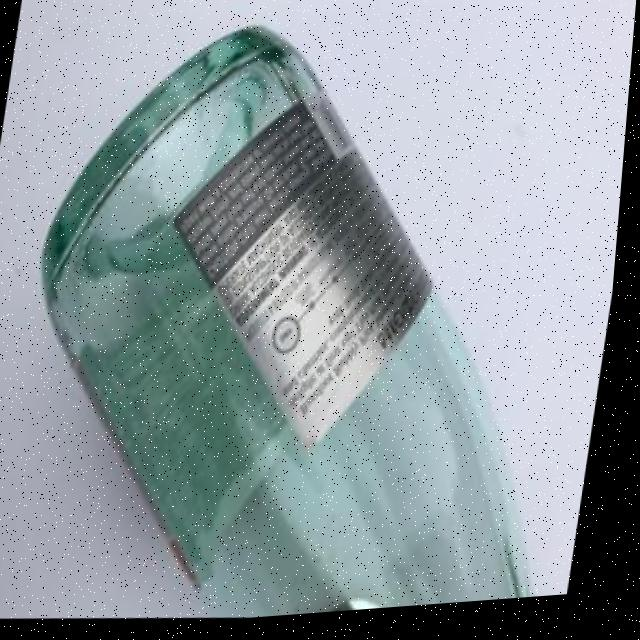glass: (0, 0, 639, 638)
